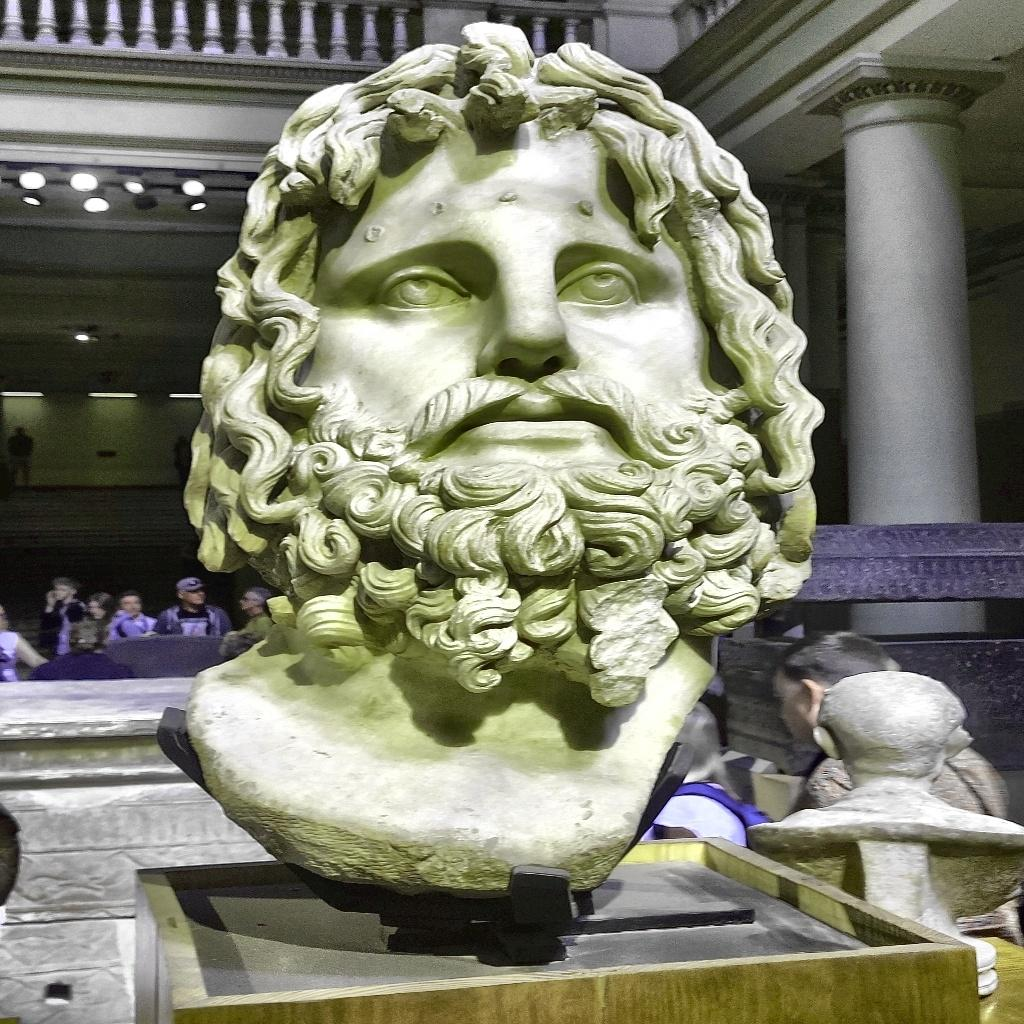Clossal Head of the god Serapis: (180, 19, 828, 901)
